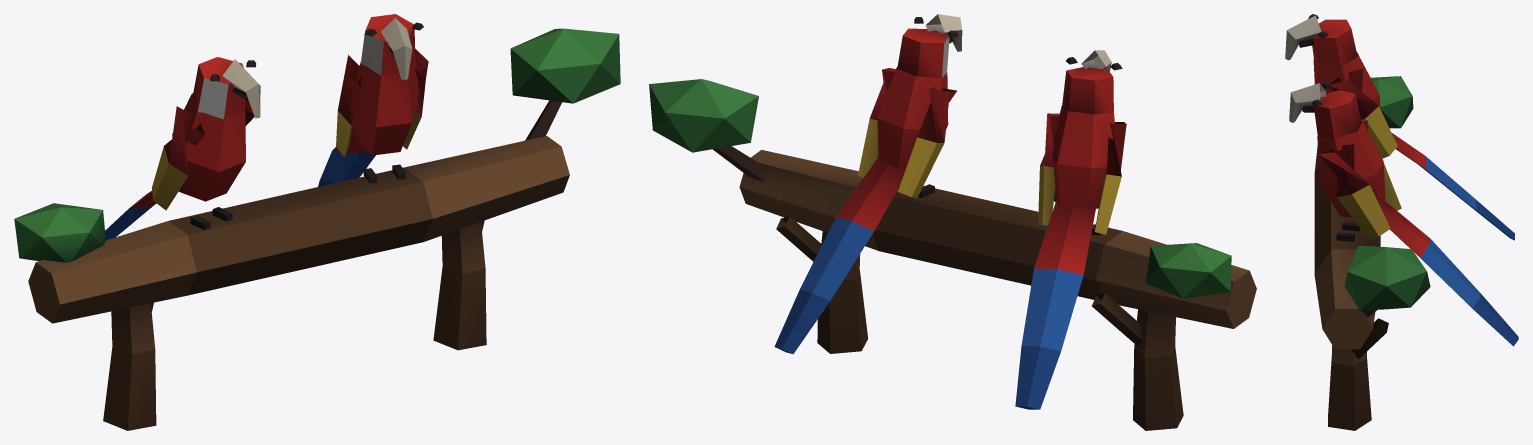
File: guacamayas.glb
The picture shows the model from 3 angles, left to right: view 1: azimuth 30°, elevation 25°; view 2: azimuth 150°, elevation 25°; view 3: azimuth 270°, elevation 25°; orthographic projection. The views are drawn at different scales.
Parts seen in each view (by area): view 1: branch, macaw_1, macaw_2; view 2: branch, macaw_1, macaw_2; view 3: branch, macaw_2, macaw_1.
Boxes of the visible parts, bbox=[...] form: branch: bbox=[14, 28, 620, 430]; macaw_1: bbox=[105, 57, 260, 240]; macaw_2: bbox=[318, 14, 428, 186]; branch: bbox=[649, 79, 1256, 430]; macaw_1: bbox=[1015, 50, 1126, 409]; macaw_2: bbox=[774, 14, 962, 354]; branch: bbox=[1314, 76, 1430, 430]; macaw_2: bbox=[1289, 82, 1518, 346]; macaw_1: bbox=[1285, 14, 1514, 240].
Size of the model in its own units: 15.38 by 8.63 by 6.01.
